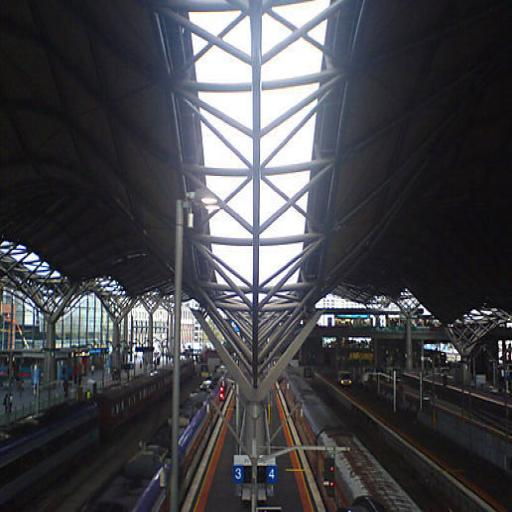platform_edge: (273, 391, 329, 512), (180, 401, 234, 512)
